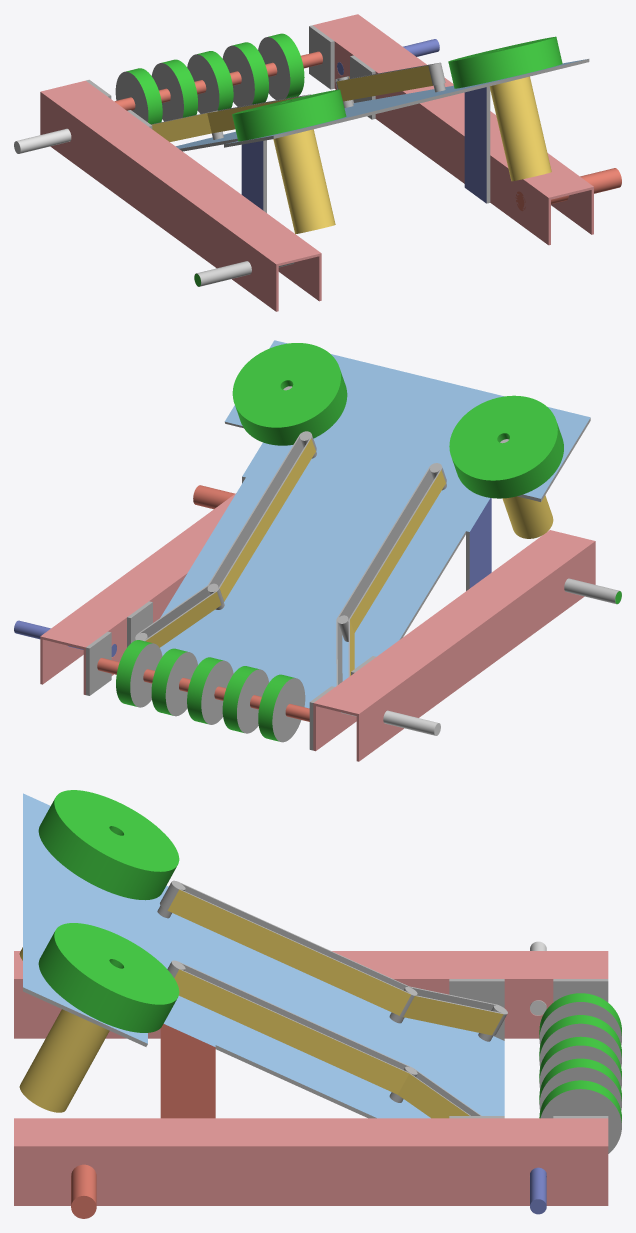
Rendered from Car.fbx.
3 views of the same model, one above another, from view 1: azimuth 30°, elevation 25°; view 2: azimuth 150°, elevation 25°; view 3: azimuth 270°, elevation 25° (orthographic). The views are drawn at different scales.
Visible parts, largest first — view 1: Body52; view 2: Body52; view 3: Body52.
Part boxes in pixels (<box>): Body52: <box>14,14,621,311</box>; Body52: <box>14,340,621,761</box>; Body52: <box>14,790,621,1218</box>.
Bounding box in the file's own units: 0.4432 × 0.198 × 0.442.
